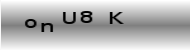8: (79, 10, 92, 24)
K: (108, 10, 123, 25)
U: (61, 10, 76, 25)
n: (39, 22, 53, 33)
o: (23, 18, 36, 29)
